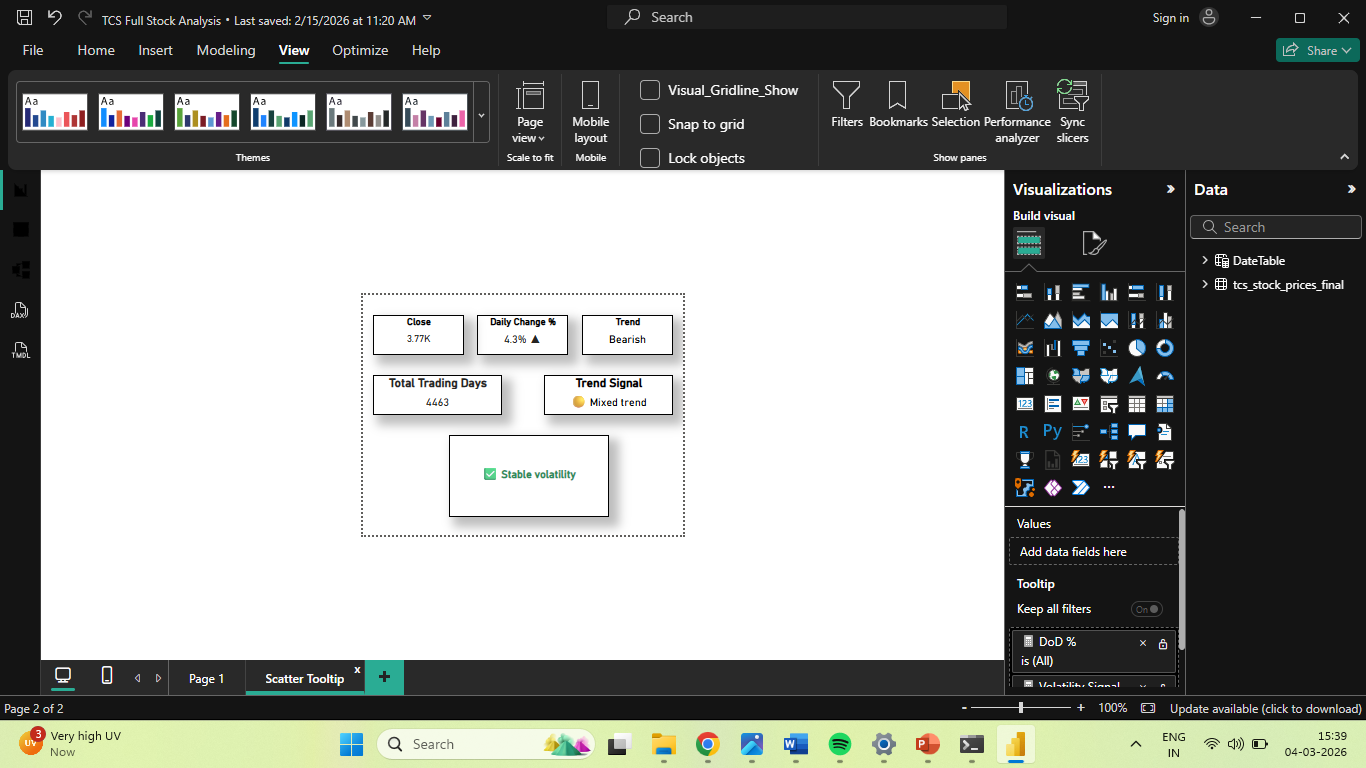

This screenshot's page, from the dashboard's own definition file:
{"tool":"powerbi","page":{"name":"Scatter Tooltip","canvas":[320,240],"ordinal":1},"visuals":[{"type":"card","box":[10,570,280,150],"z":0},{"type":"card","title":"Daily Change %","fields":{"Values":["DateTable.DoD Display"]},"box":[114,20,91,40],"z":1000},{"type":"card","title":"Close","fields":{"Values":["DateTable.Latest Close"]},"box":[10,20,91,40],"z":2000},{"type":"card","title":"Trend","fields":{"Values":["Min(tcs_stock_prices_final.Trend Status)"]},"box":[219,20,91,40],"z":3000},{"type":"card","title":"Total Trading Days","fields":{"Values":["DateTable.Total Trading Days"]},"box":[10,80,129,40],"z":4000},{"type":"card","title":"Trend Signal","fields":{"Values":["DateTable.Trend Signal"]},"box":[181,80,129,40],"z":5000},{"type":"card","fields":{"Values":["DateTable.Volatility Signal"]},"box":[86,140,160,82],"z":6000}]}

Visuals, with their boxes on the page's 320x240 design canvas (x1, y1, x2, y2). These are canvas units, not pixel positions in the 1366x768 screenshot, which may show the page scaled, cropped or inside an application window:
card: rect(10, 570, 290, 720)
"Daily Change %" card: rect(114, 20, 205, 60)
"Close" card: rect(10, 20, 101, 60)
"Trend" card: rect(219, 20, 310, 60)
"Total Trading Days" card: rect(10, 80, 139, 120)
"Trend Signal" card: rect(181, 80, 310, 120)
card - DateTable.Volatility Signal: rect(86, 140, 246, 222)
